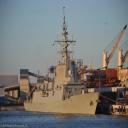Fragata: (24, 7, 104, 116)
